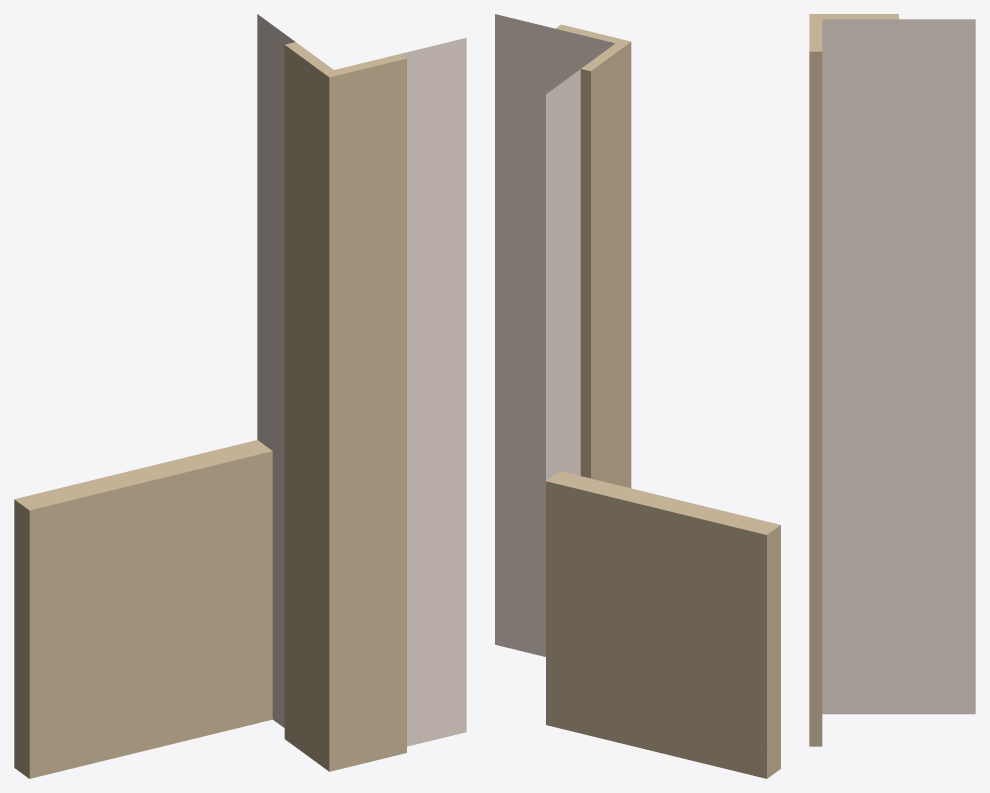
The model's file is mid-c2.fbx.
The picture shows the model from 3 angles, left to right: view 1: azimuth 30°, elevation 25°; view 2: azimuth 150°, elevation 25°; view 3: azimuth 270°, elevation 25°; orthographic projection. The views are drawn at different scales.
Parts seen in each view (by area): view 1: a2001/200/mid-c2; view 2: a2001/200/mid-c2; view 3: a2001/200/mid-c2.
Part boxes in pixels (<box>): a2001/200/mid-c2: <box>14,14,466,778</box>; a2001/200/mid-c2: <box>495,14,780,778</box>; a2001/200/mid-c2: <box>809,14,975,746</box>.
Bounding box in the file's own units: 1.7 × 3 × 0.65.
